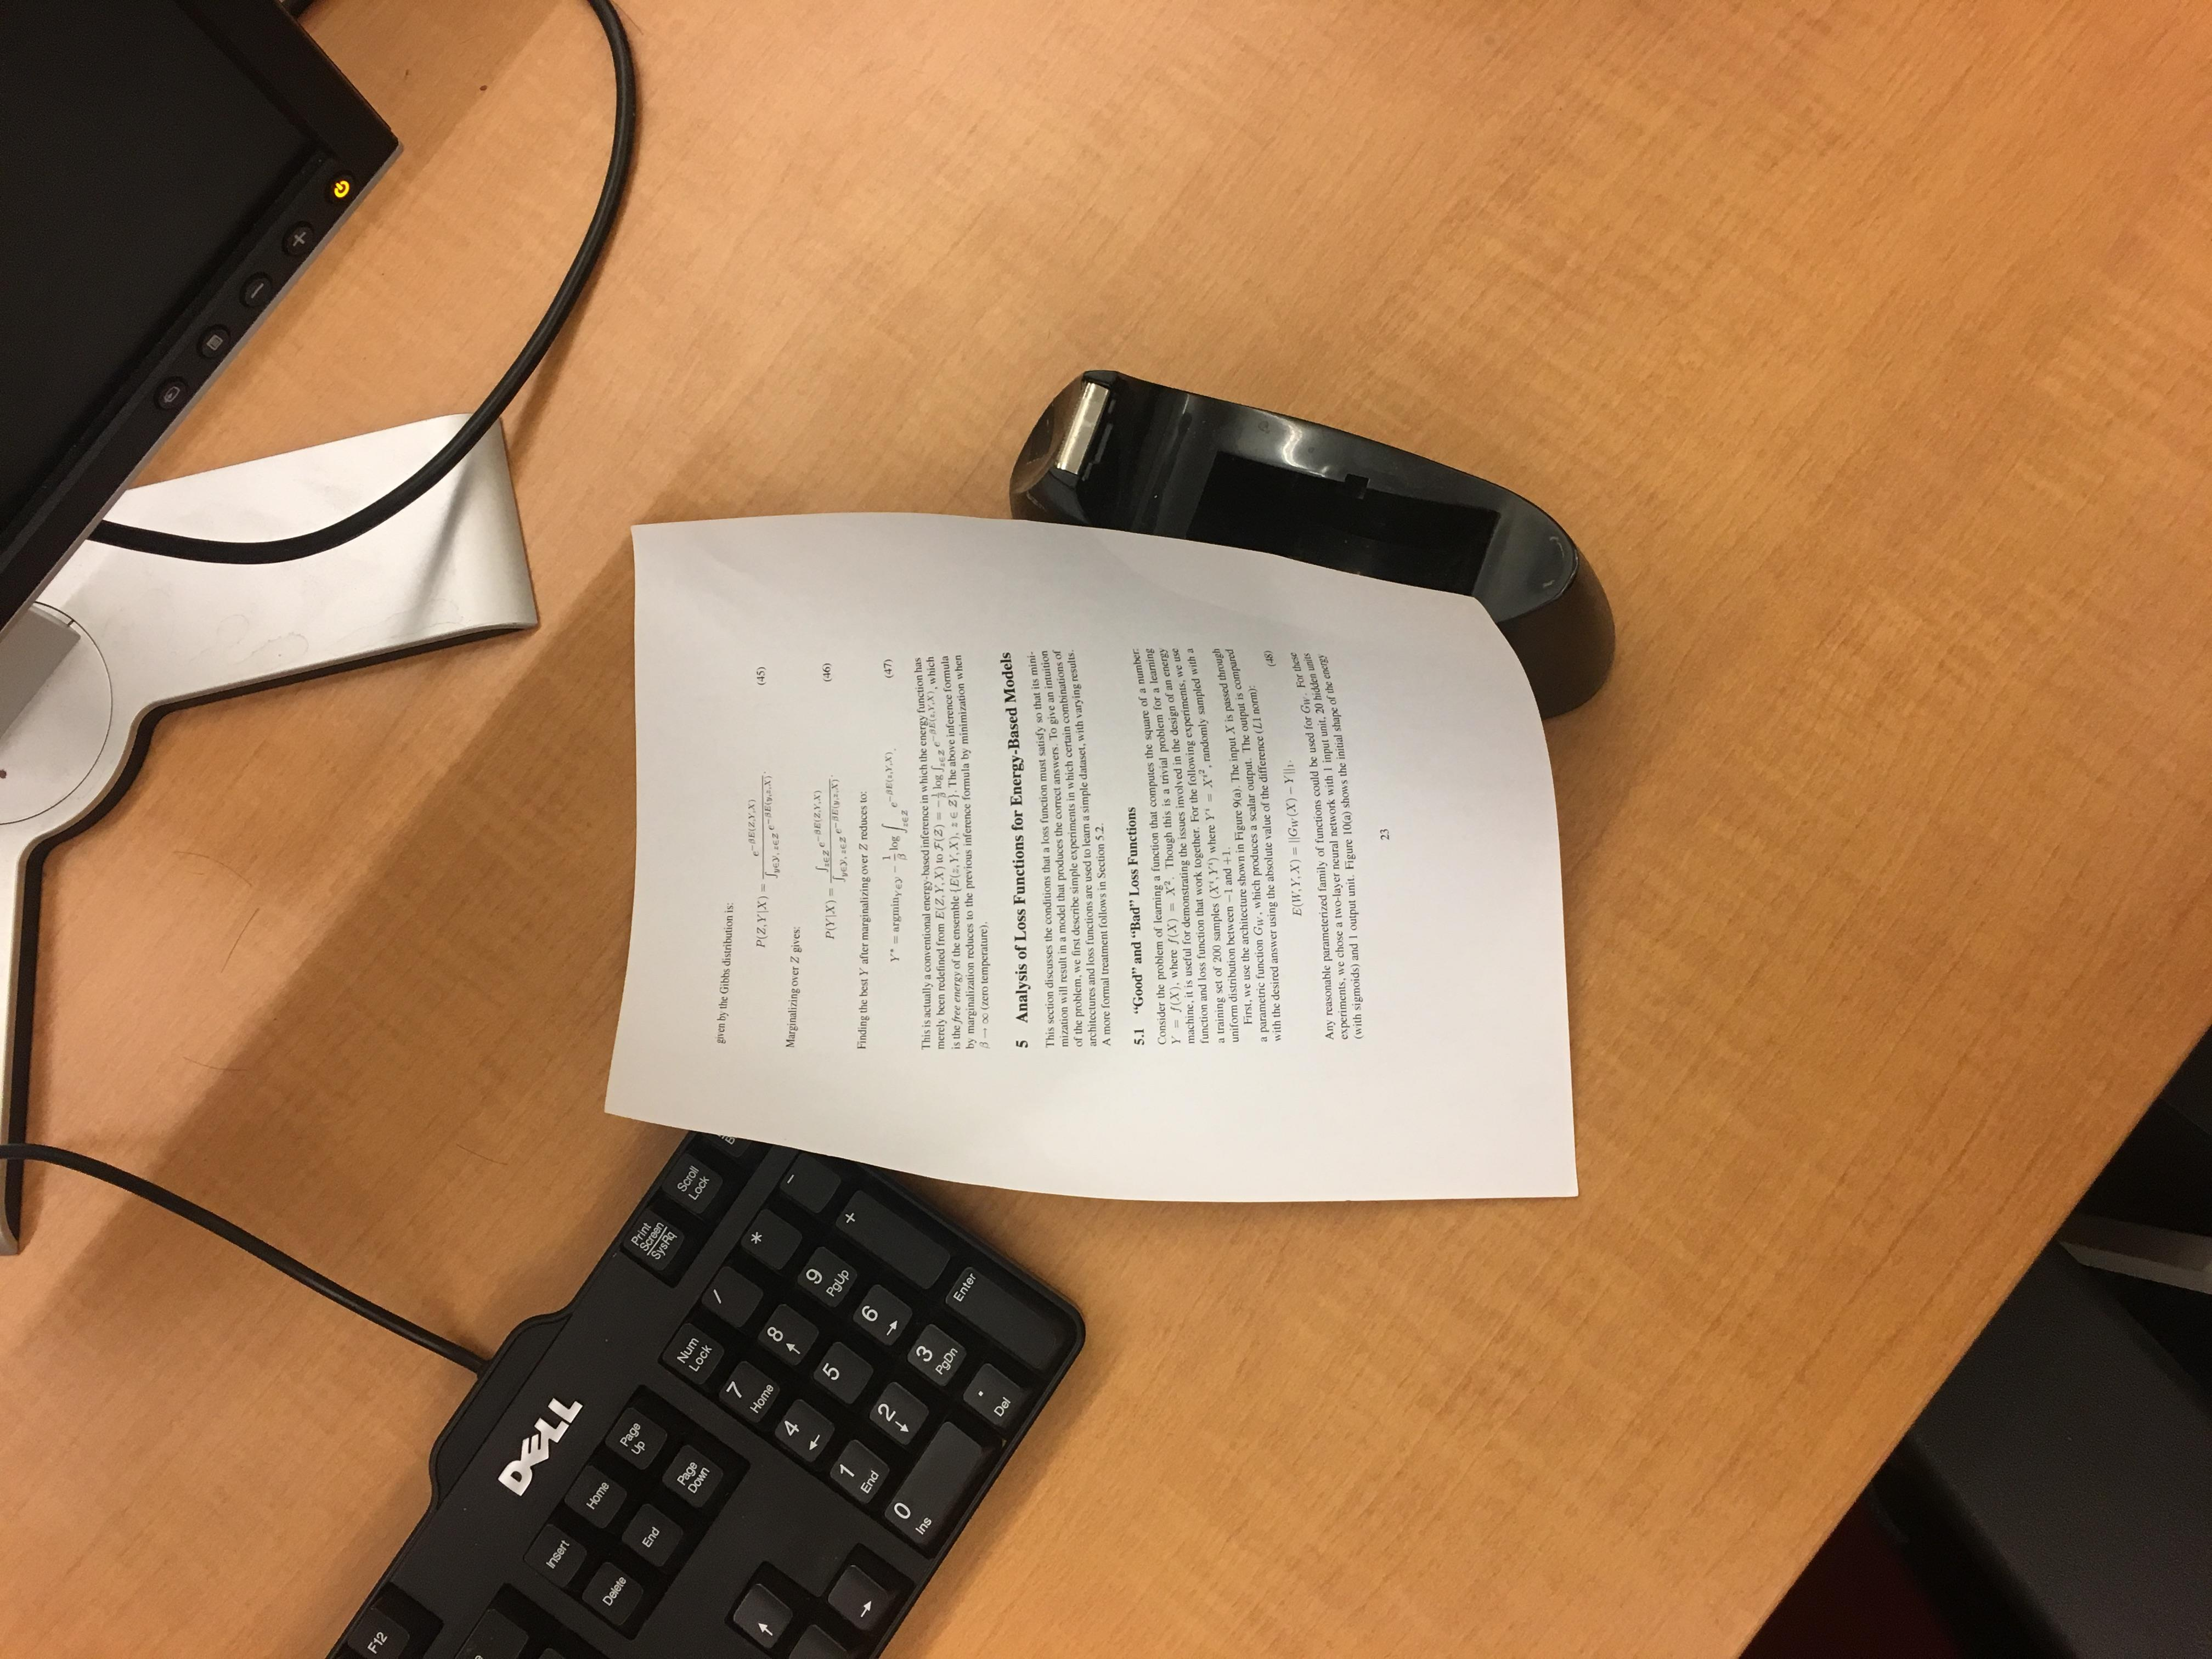paper: (489, 364, 1655, 1277)
